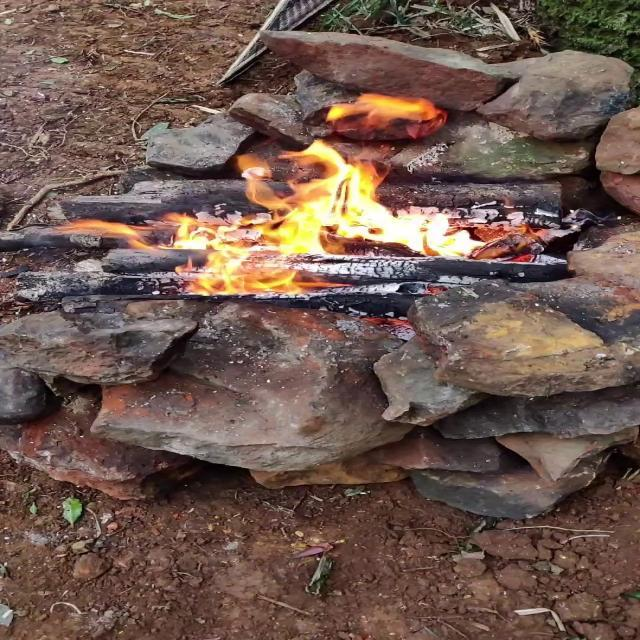Fire: (112, 95, 516, 304)
